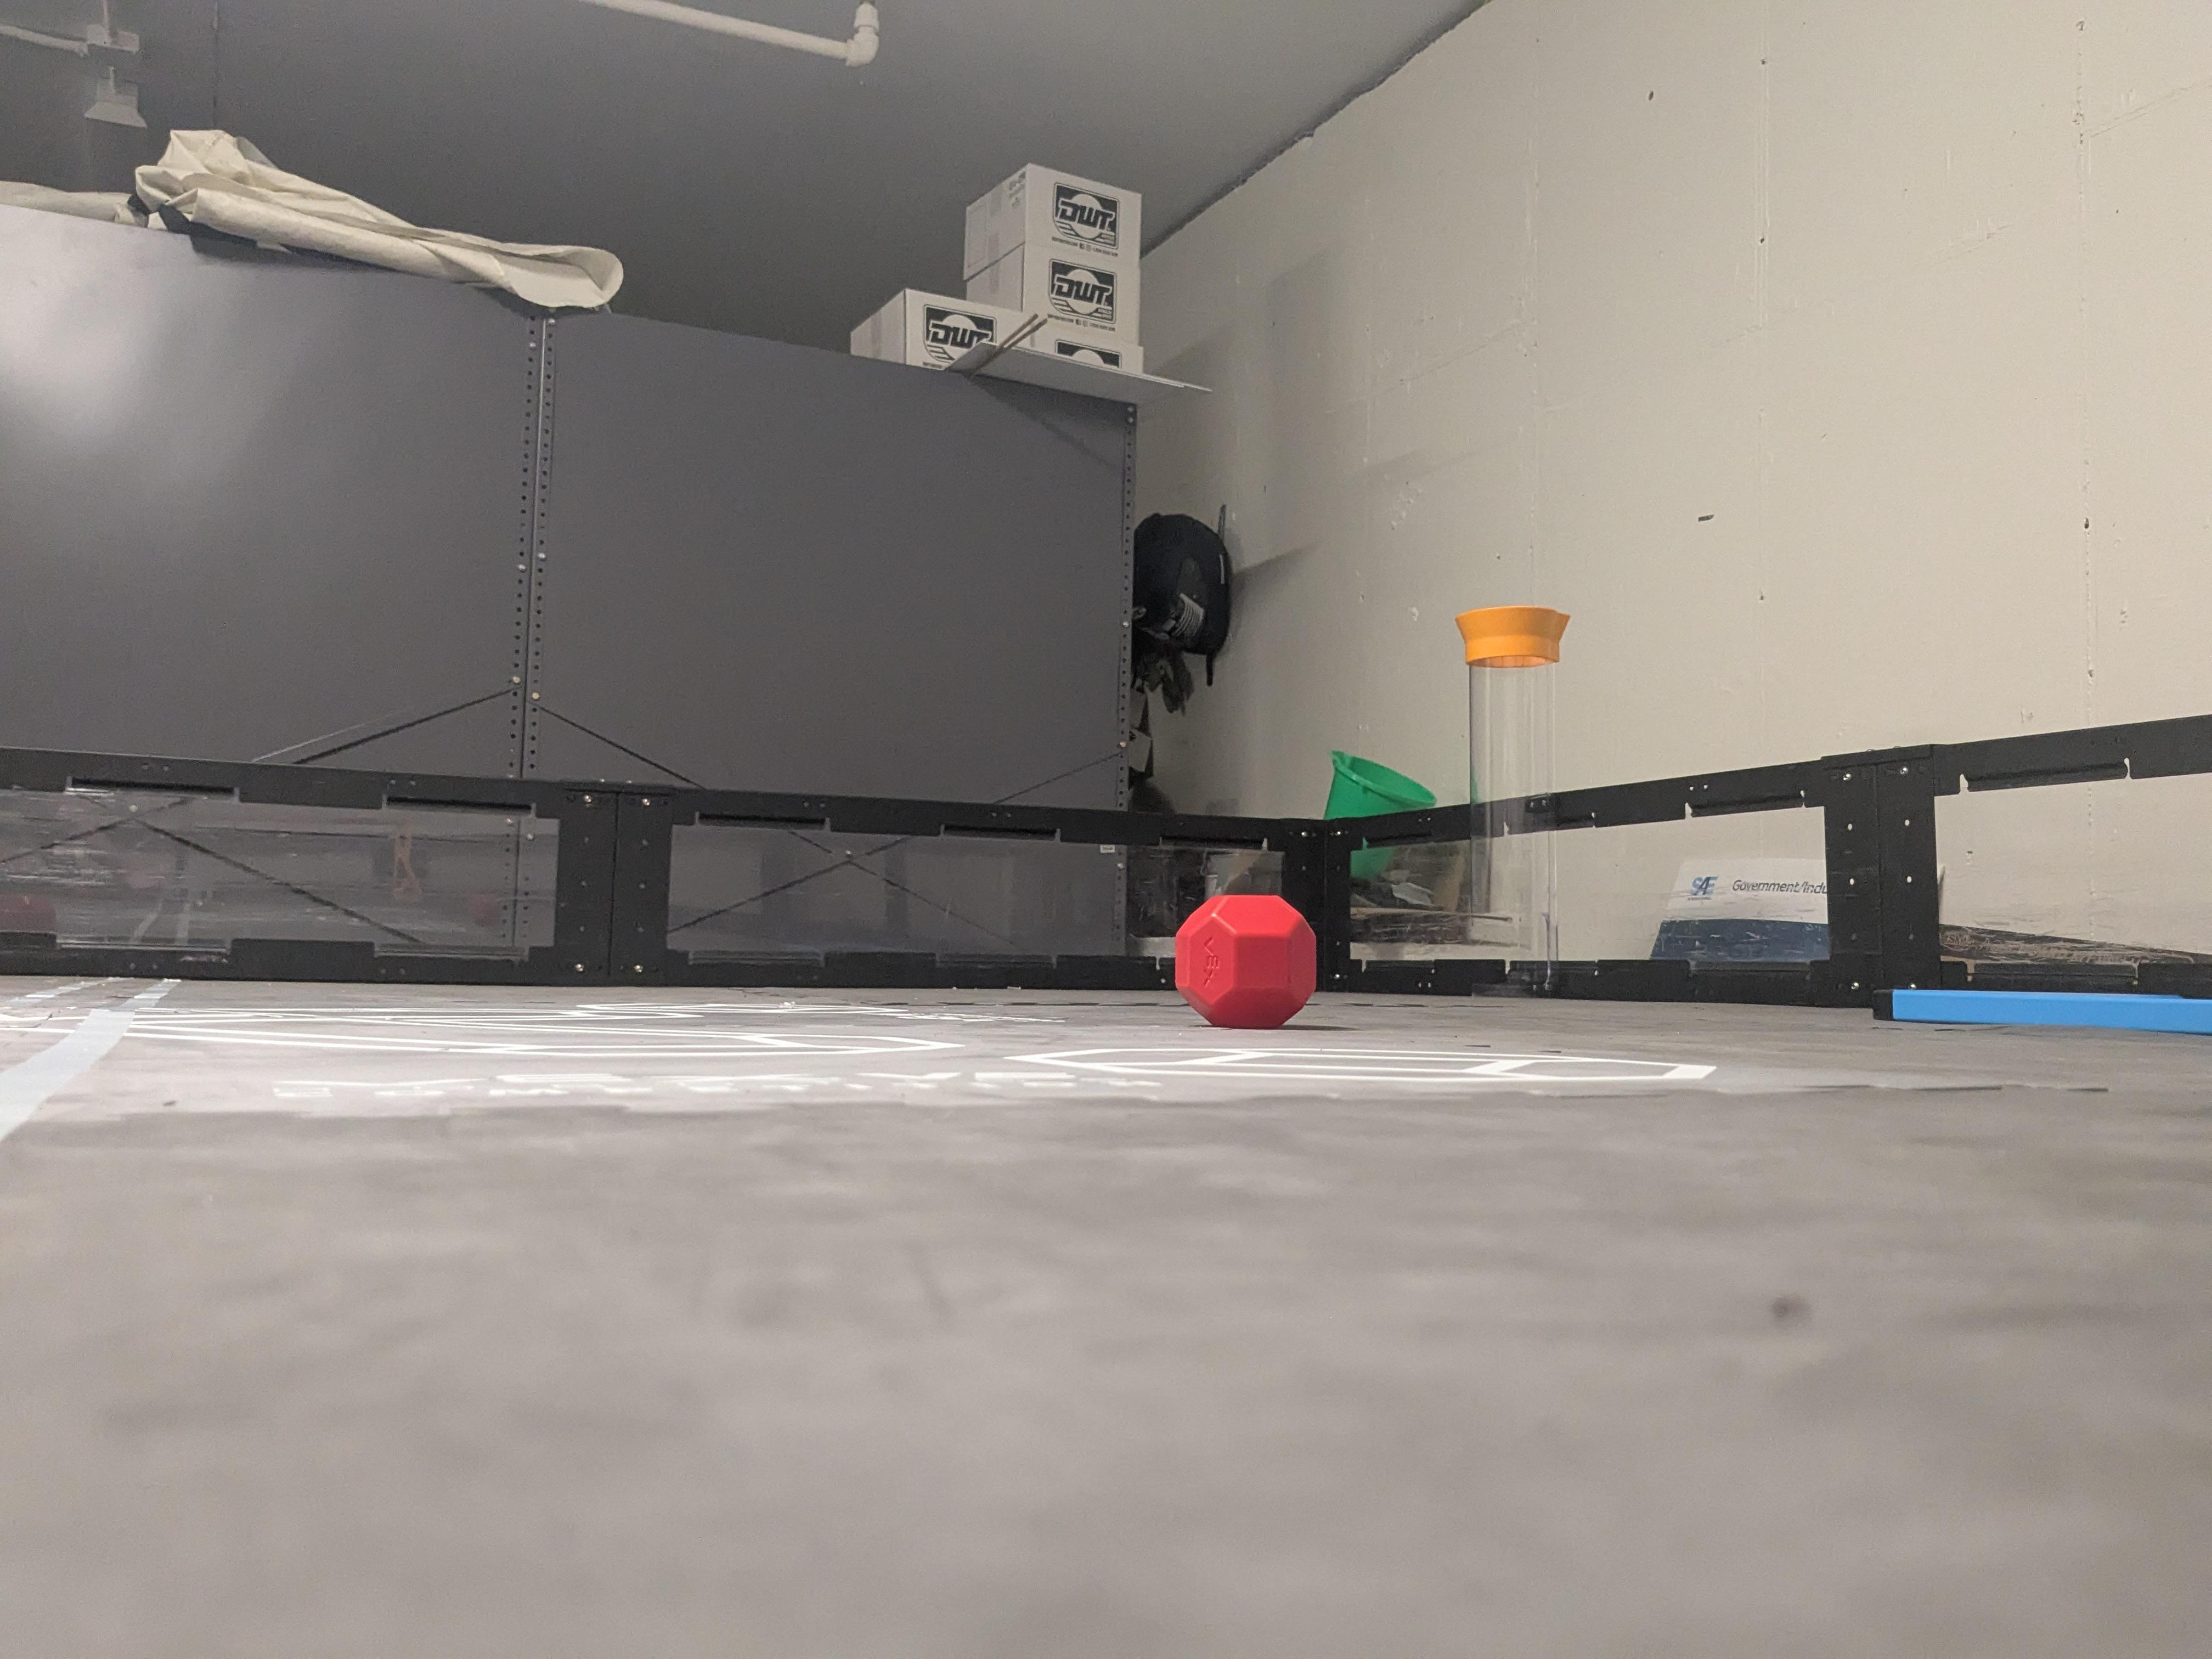Vex-Pieces-RED: (1170, 892, 1313, 1023)
